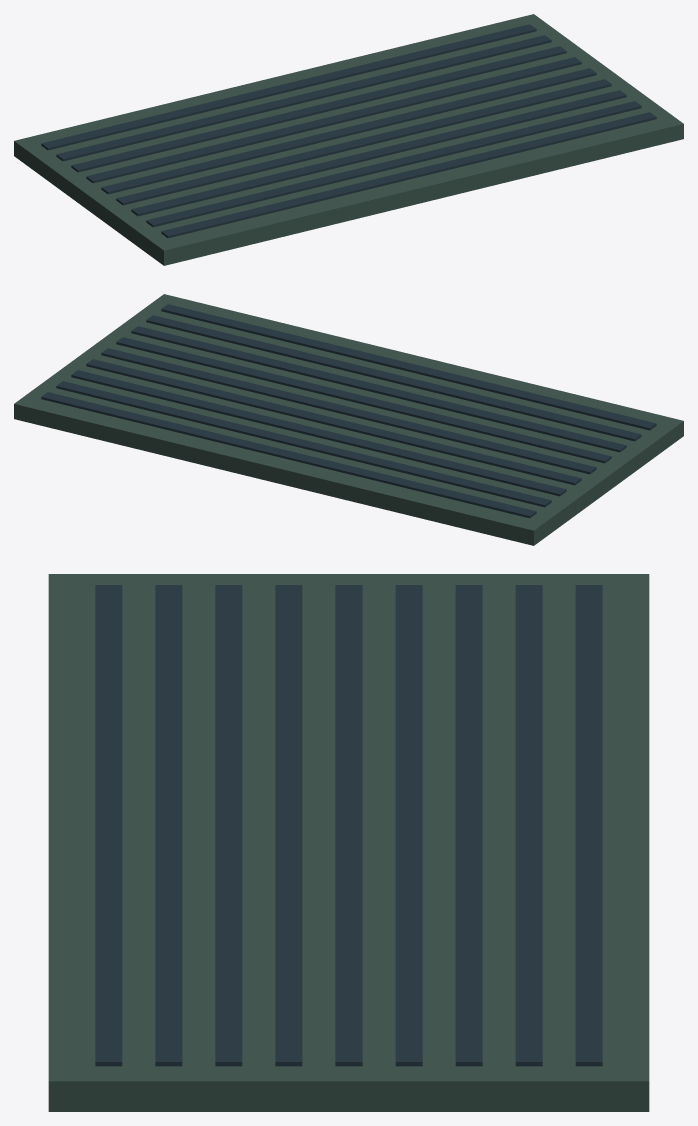
Rendered from scendance-plan-plastic-trackway.glb.
3 renders of one model, top to bottom at view 1: azimuth 30°, elevation 25°; view 2: azimuth 150°, elevation 25°; view 3: azimuth 270°, elevation 25°, orthographic. The views are drawn at different scales.
Size of the model in its own units: 2 by 0.064 by 1.
